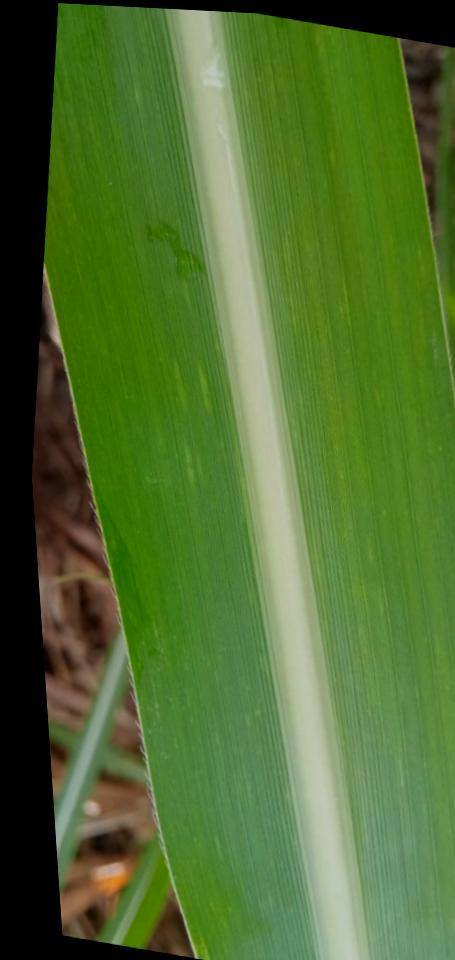Healthy: (43, 3, 455, 960)
